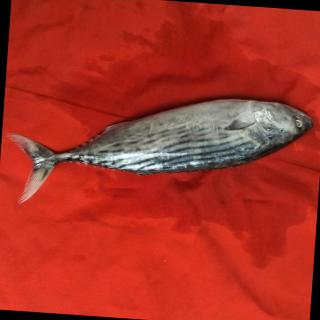Ikan: (12, 78, 320, 219)
